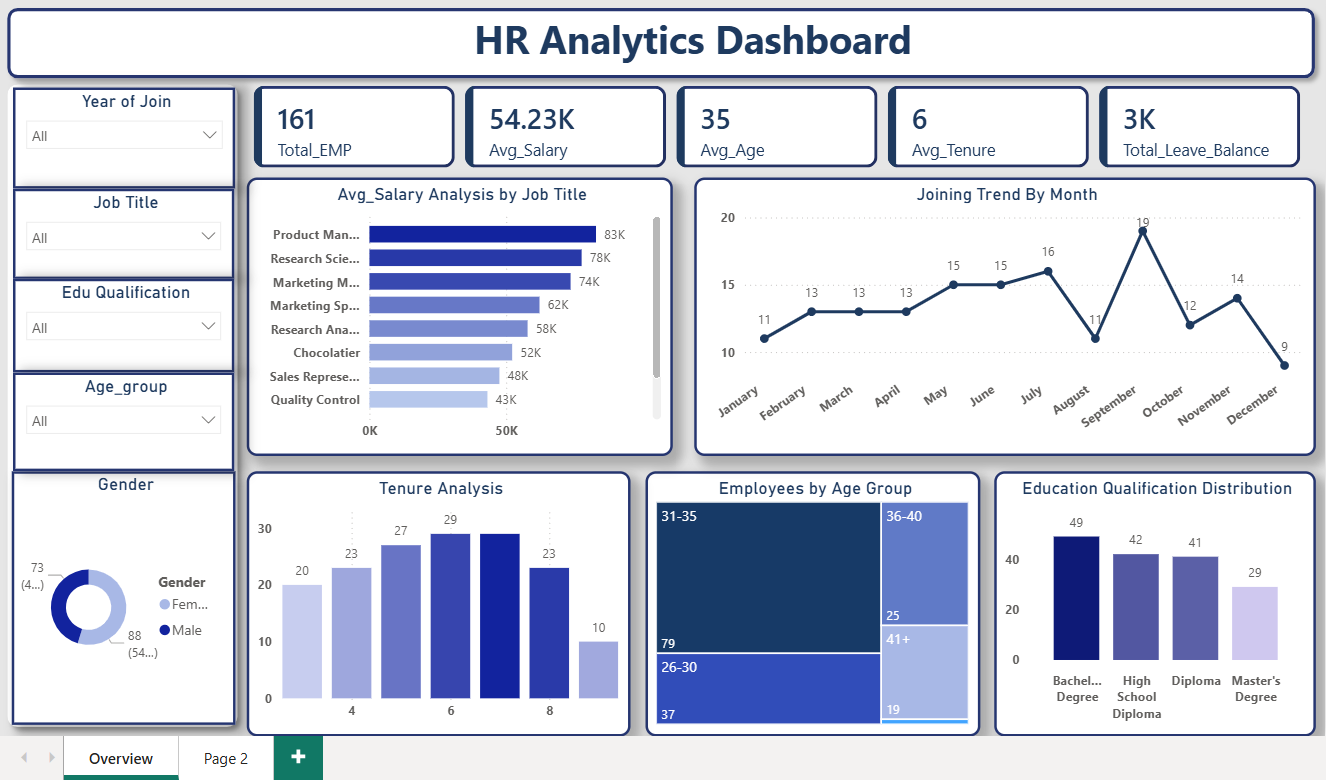

The dashboard page shown, as its layout file describes it:
{"tool":"powerbi","page":{"name":"Overview","canvas":[1280,720],"ordinal":0},"visuals":[{"type":"shape","box":[0,8.4,1280,85.7],"z":0},{"type":"shape","box":[0,82,240.1,638.2],"z":1000},{"type":"donutChart","title":"Gender","fields":{"Category":["data.Gender"],"Y":["CountNonNull(data.Emp ID)"]},"box":[13.3,464.5,216,244.9],"z":2000},{"type":"treemap","title":"Employees by Age Group","fields":{"Group":["data.Age_Grp"],"Values":["data.TotalEMP"]},"box":[624.9,464.5,323.3,255.8],"z":3000},{"type":"clusteredBarChart","title":"Avg_Salary Analysis by Job Title","fields":{"Category":["data.Job Title"],"Y":["data.AvgSalary"]},"box":[240.1,181,411.4,269],"z":4000},{"type":"lineChart","title":"Joining Trend By Month","fields":{"Y":["data.TotalEMP"],"Category":["data.Date of Join.Variation.Date Hierarchy.Month"]},"box":[672,181,599.6,269],"z":5000},{"type":"clusteredColumnChart","title":"Education Qualification Distribution","fields":{"Category":["data.Education Qualification"],"Y":["data.TotalEMP"]},"box":[961.5,464.5,310.1,255.8],"z":6000},{"type":"cardVisual","fields":{"Data":["data.TotalEMP","data.AvgSalary","data.Avg_Age","data.Avg_Tenure","data.Total_Leave_Balance"]},"box":[226.8,72.4,1053.2,119.4],"z":7000},{"type":"columnChart","title":"Tenure Analysis","fields":{"Category":["data.Tenure"],"Y":["data.TotalEMP"]},"box":[240.1,464.5,370.4,255.8],"z":8000},{"type":"textbox","box":[296.8,16.9,748,77.2],"z":9000},{"type":"slicer","title":"Year of Join","fields":{"Values":["data.Date of Join.Variation.Date Hierarchy.Year"]},"box":[14.5,94.1,214.7,97.7],"z":10000},{"type":"slicer","title":"Job Title","fields":{"Values":["data.Job Title"]},"box":[14.5,191.8,213.5,86.9],"z":11000},{"type":"slicer","title":"Edu Qualification","fields":{"Values":["data.Education Qualification"]},"box":[14.5,278.7,213.5,90.5],"z":12000},{"type":"slicer","title":"Age_group","fields":{"Values":["data.Age_Grp"]},"box":[14.5,369.2,213.5,95.3],"z":13000}]}

Visuals, with their boxes in screenshot pixels (x1, y1, x2, y2):
shape: region(0, 0, 1308, 86)
shape: region(0, 73, 245, 725)
"Gender" donutChart: region(14, 464, 234, 714)
"Employees by Age Group" treemap: region(638, 464, 969, 726)
"Avg_Salary Analysis by Job Title" clusteredBarChart: region(245, 175, 666, 449)
"Joining Trend By Month" lineChart: region(687, 175, 1299, 449)
"Education Qualification Distribution" clusteredColumnChart: region(982, 464, 1299, 726)
cardVisual - data.TotalEMP x data.AvgSalary: region(232, 64, 1308, 186)
"Tenure Analysis" columnChart: region(245, 464, 624, 726)
textbox: region(303, 7, 1067, 86)
"Year of Join" slicer: region(15, 86, 234, 186)
"Job Title" slicer: region(15, 186, 233, 274)
"Edu Qualification" slicer: region(15, 274, 233, 367)
"Age_group" slicer: region(15, 367, 233, 464)
